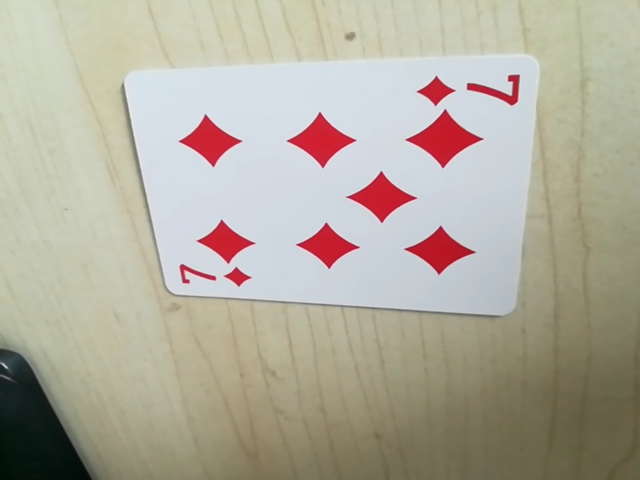fk 7: (415, 60, 524, 112), (170, 262, 254, 295)
